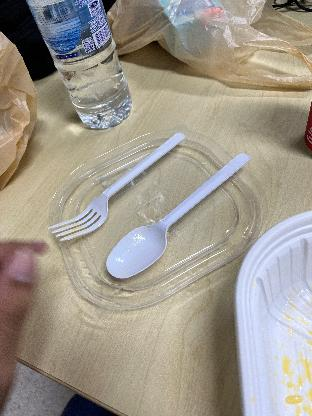Others: (104, 154, 254, 294), (52, 134, 191, 248)
